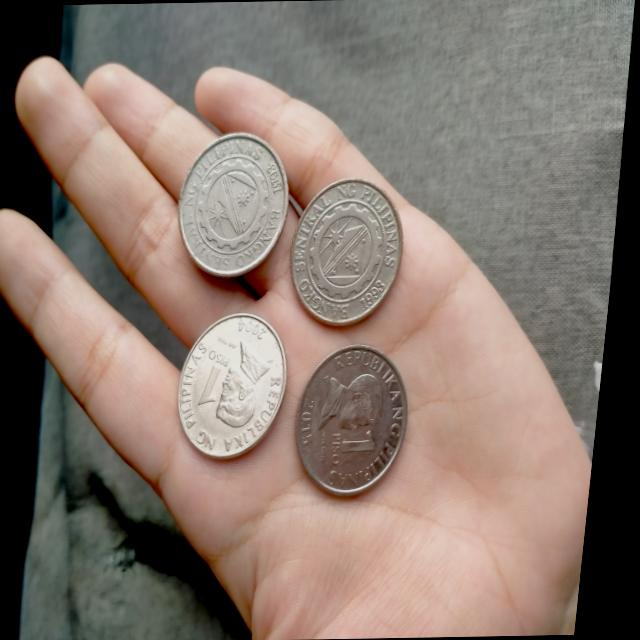1_Old_Back: (307, 195, 395, 308), (197, 150, 281, 254)
